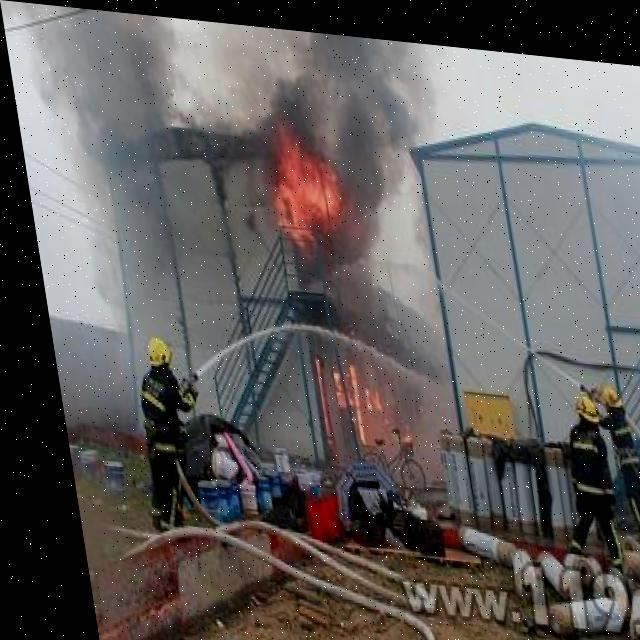Fire: (258, 106, 348, 262)
